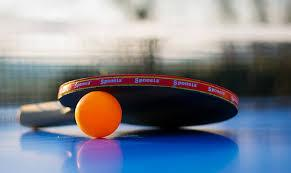oball: (73, 90, 124, 138)
